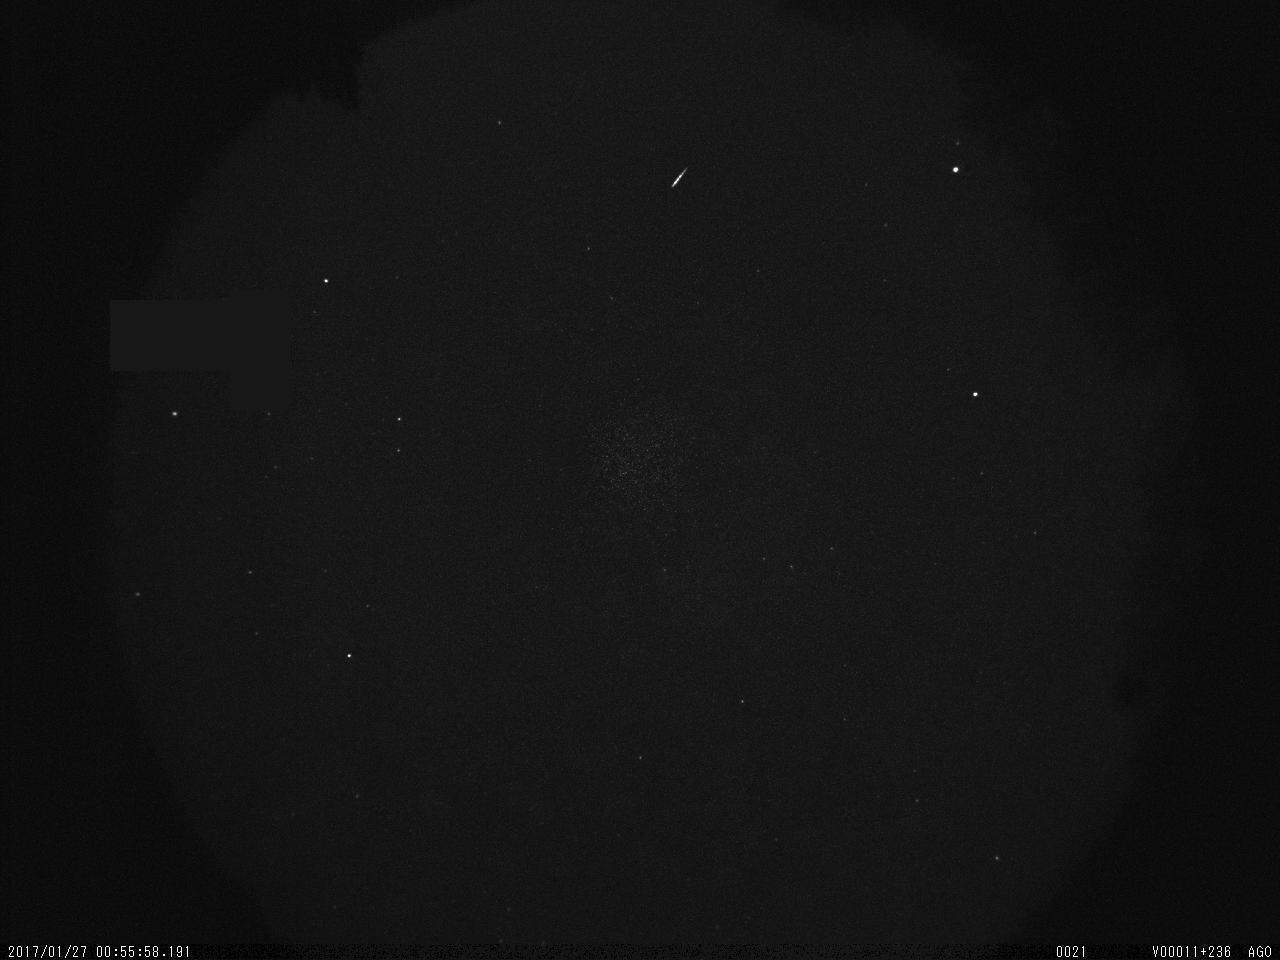Meteor: (658, 163, 698, 192)
